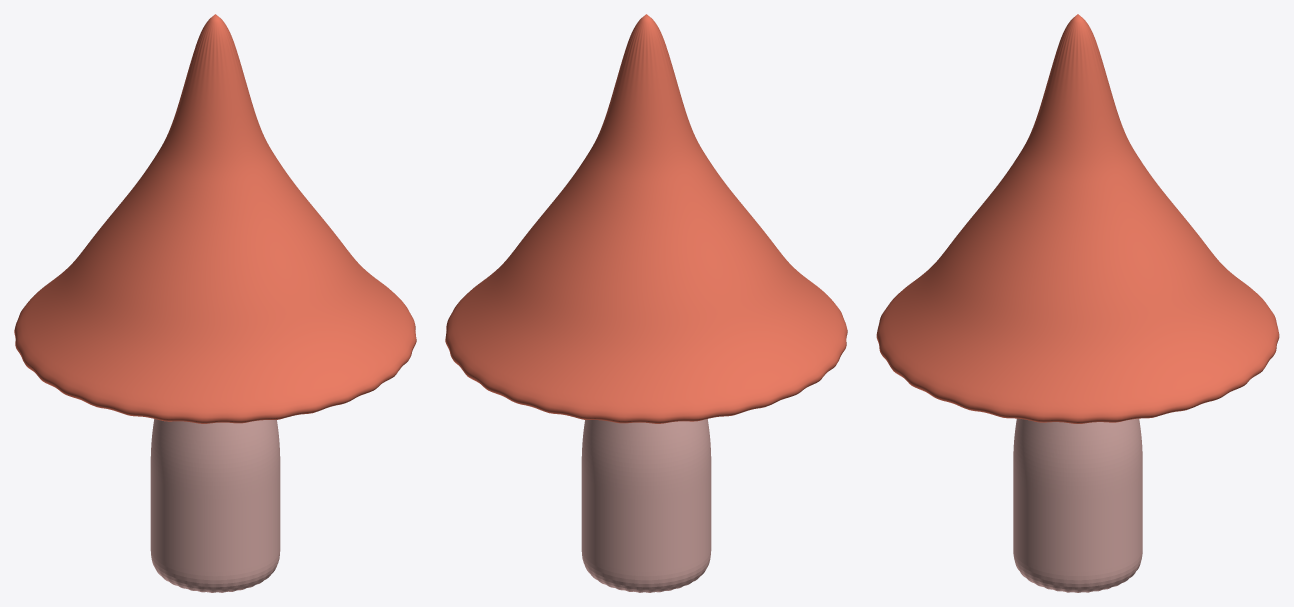
File: mushS.fbx
The picture shows the model from 3 angles, left to right: view 1: azimuth 30°, elevation 25°; view 2: azimuth 150°, elevation 25°; view 3: azimuth 270°, elevation 25°; orthographic projection.
Visible parts, largest first — view 1: Cylinder.015; view 2: Cylinder.015; view 3: Cylinder.015.
Part boxes in pixels (left/top/right/bottom): Cylinder.015: left=14, top=14, right=416, bottom=592; Cylinder.015: left=445, top=14, right=847, bottom=592; Cylinder.015: left=876, top=14, right=1279, bottom=592.
Size of the model in its own units: 134 by 207 by 134.
